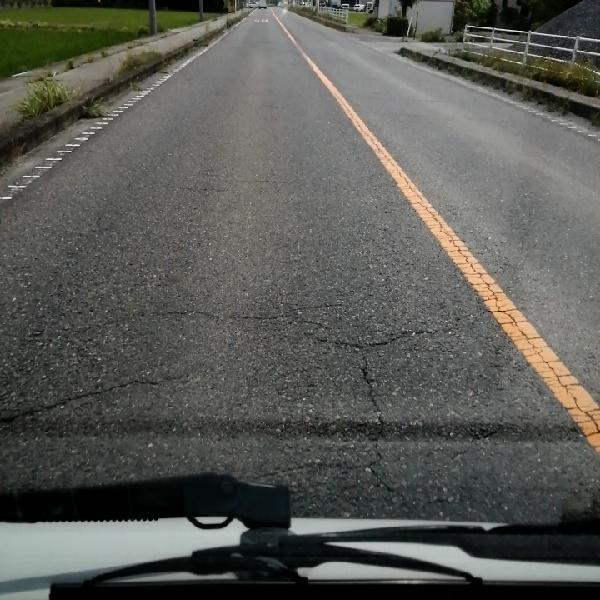D00: (346, 341, 395, 489)
D10: (7, 359, 185, 434), (65, 302, 353, 335), (247, 449, 382, 478), (306, 330, 466, 354)
